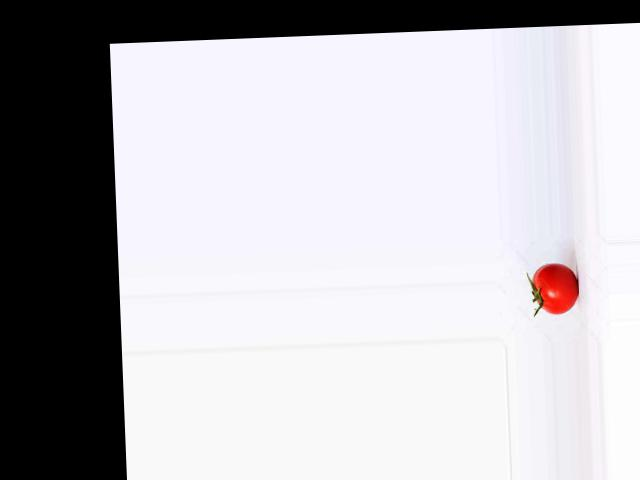tomato: (532, 261, 579, 314)
